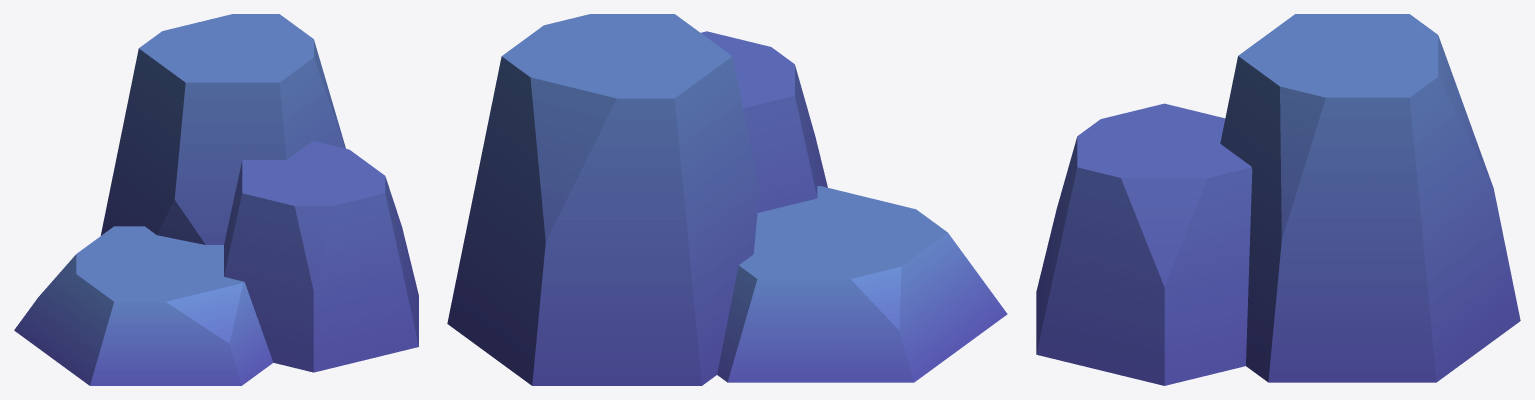
Rendered from pedra 4 azul.glb.
3 views of the same model, side by side, from view 1: azimuth 30°, elevation 25°; view 2: azimuth 150°, elevation 25°; view 3: azimuth 270°, elevation 25° (orthographic). The views are drawn at different scales.
Visible parts, largest first — view 1: rocks; view 2: rocks; view 3: rocks.
Boxes of the visible parts, x1=… form: rocks: x1=14, y1=14, x2=418, y2=385; rocks: x1=447, y1=14, x2=1007, y2=385; rocks: x1=1036, y1=14, x2=1520, y2=385.
Bounding box in the file's own units: 0.6531 × 0.4 × 0.6623.
1 material, 1 textured.
